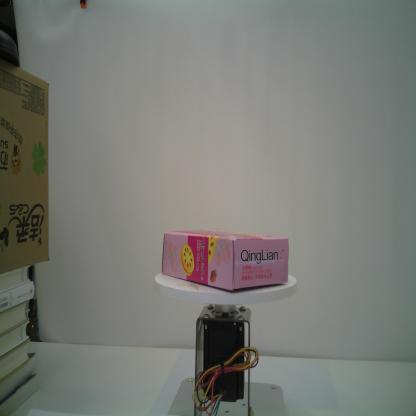Dessert: (162, 228, 290, 290)
